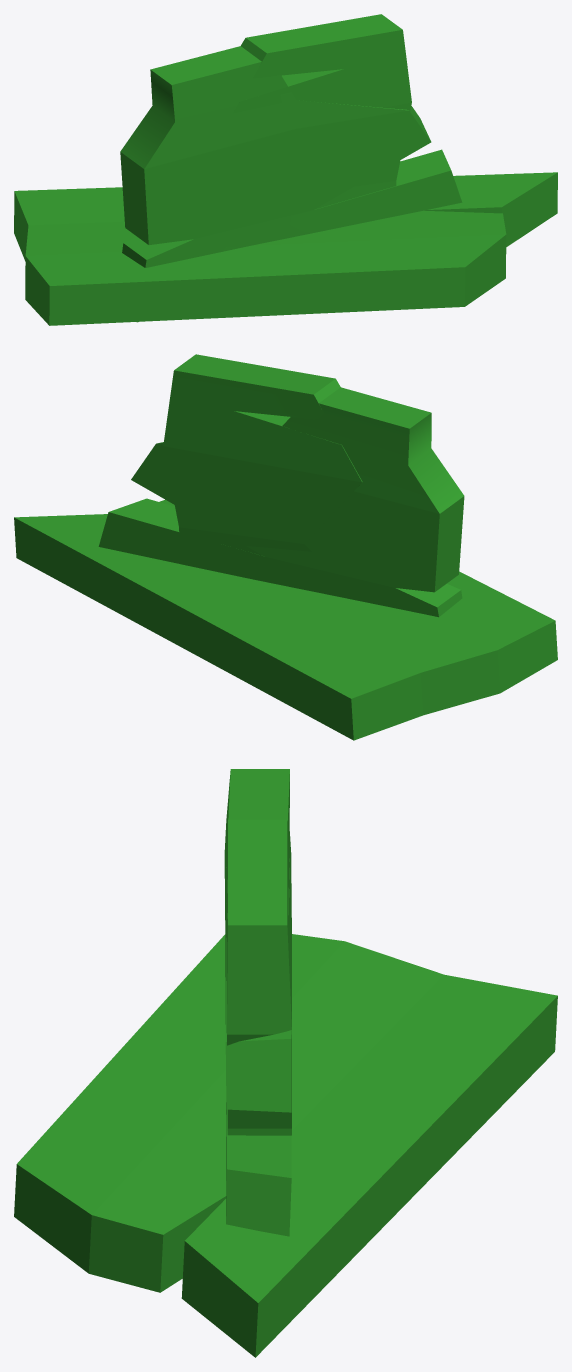
The model's file is muban.fbx.
3 renders of one model, top to bottom at view 1: azimuth 30°, elevation 25°; view 2: azimuth 150°, elevation 25°; view 3: azimuth 270°, elevation 25°, orthographic. The views are drawn at different scales.
Parts seen in each view (by area): view 1: muban_1, muban_2, muban_3; view 2: muban_1, muban_2, muban_3; view 3: muban_1, muban_3, muban_2.
Boxes of the visible parts, x1,y1,x2,y2 form: muban_1: (14, 172, 557, 325); muban_2: (120, 46, 462, 322); muban_3: (222, 14, 411, 251); muban_1: (14, 499, 557, 740); muban_2: (98, 387, 464, 617); muban_3: (163, 354, 362, 589); muban_1: (14, 934, 557, 1357); muban_3: (226, 819, 291, 1135); muban_2: (224, 769, 291, 1236).
Bounding box in the file's own units: 12.14 × 5.38 × 7.94.
